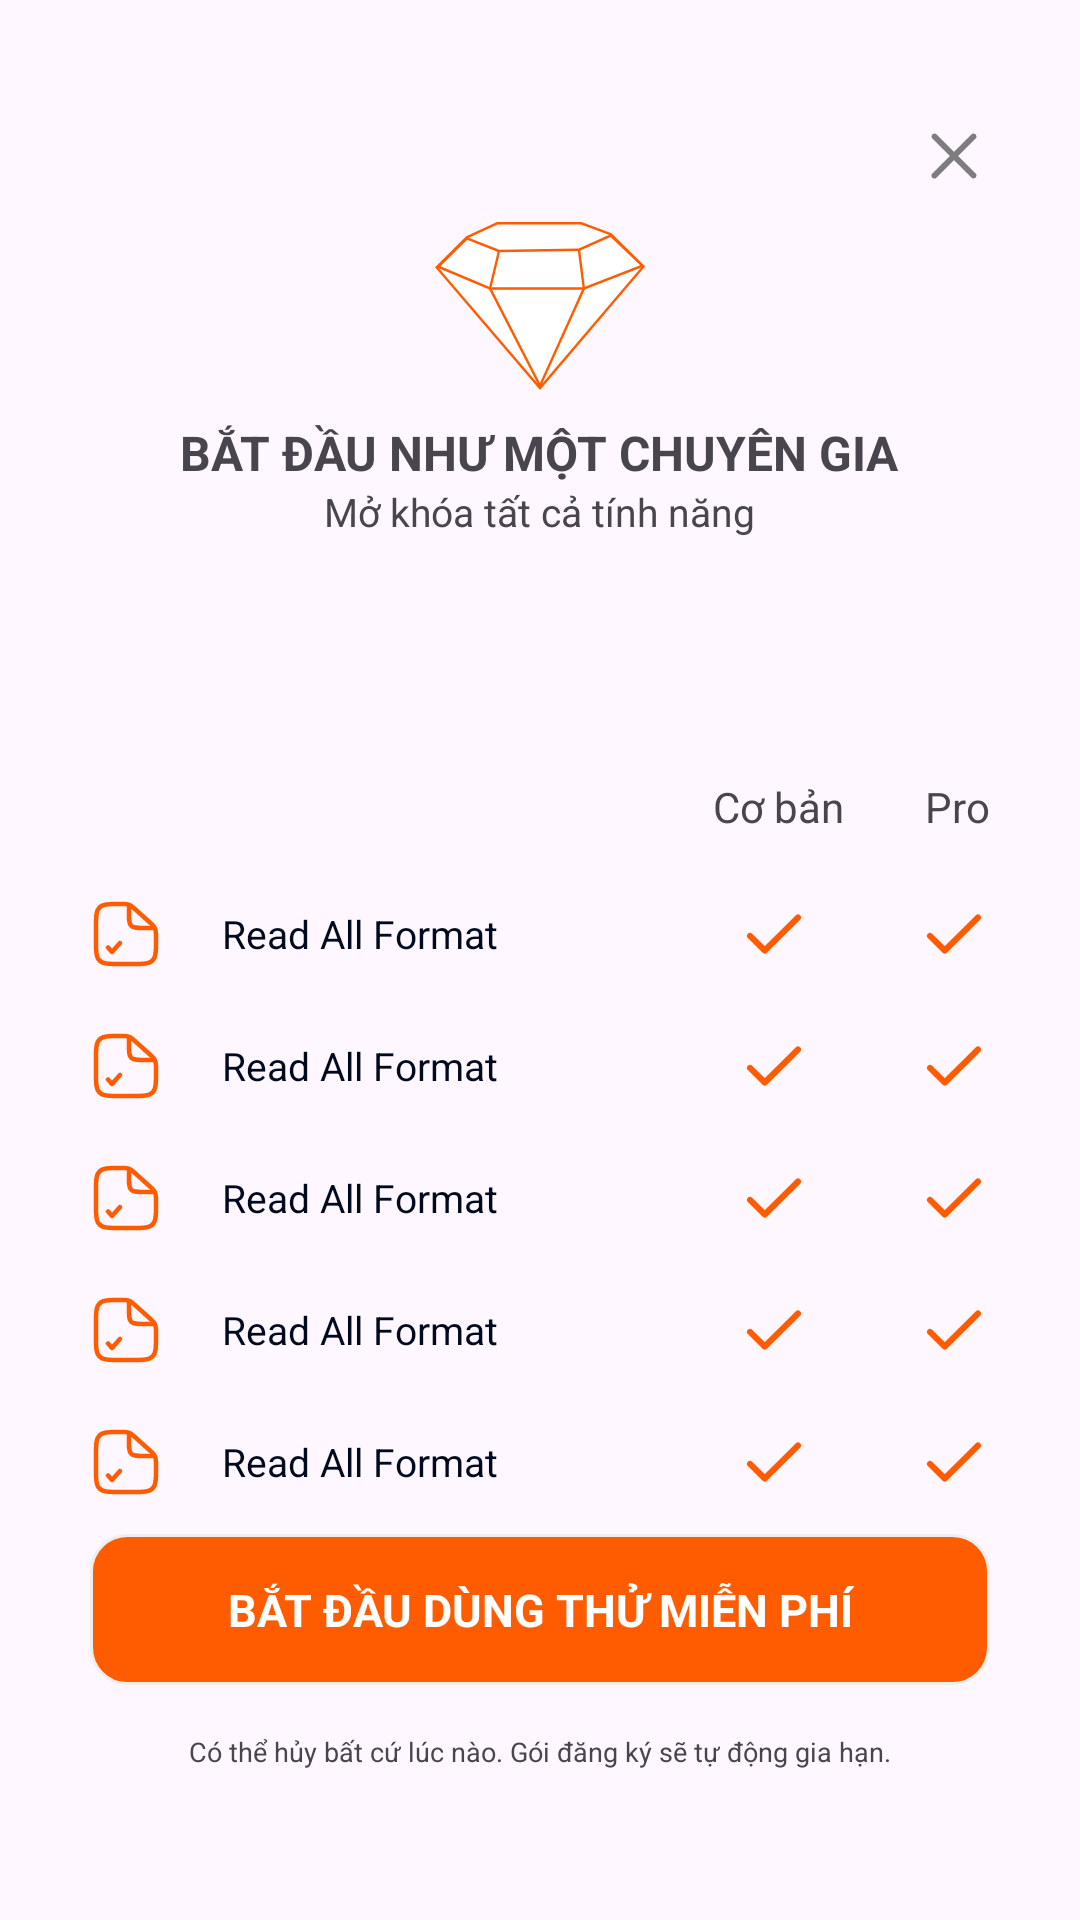

Icon bounding boxes for this 1080 x 1920 phone screenshot, format [x1=x1, y1=y1, x2=x2, y2=y2]:
premium activity close: [x1=931, y1=133, x2=977, y2=179]
premium activity diamond: [x1=435, y1=222, x2=645, y2=390]
